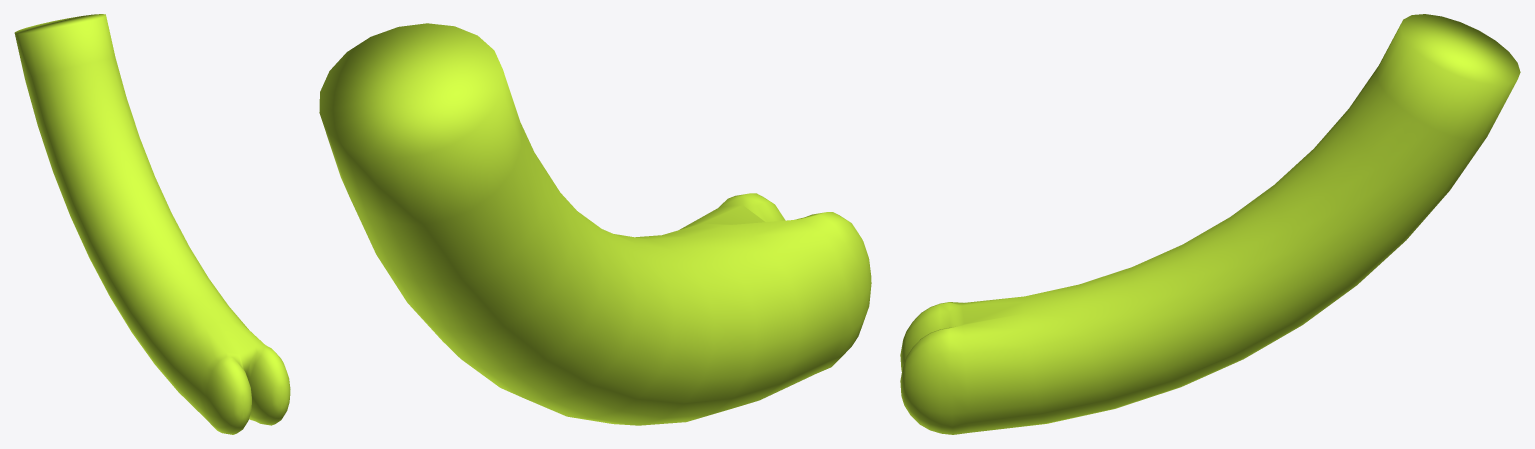
File: treetrunkstrompa.obj
3 views of the same model, side by side, from view 1: azimuth 30°, elevation 25°; view 2: azimuth 150°, elevation 25°; view 3: azimuth 270°, elevation 25° (orthographic). The views are drawn at different scales.
Visible parts, largest first — view 1: TtTrompa; view 2: TtTrompa; view 3: TtTrompa.
Boxes of the visible parts, bbox=[...] form: TtTrompa: bbox=[14, 14, 290, 434]; TtTrompa: bbox=[319, 23, 871, 425]; TtTrompa: bbox=[900, 14, 1520, 434].
Size of the model in its own units: 0.2643 by 0.8826 by 1.26.
